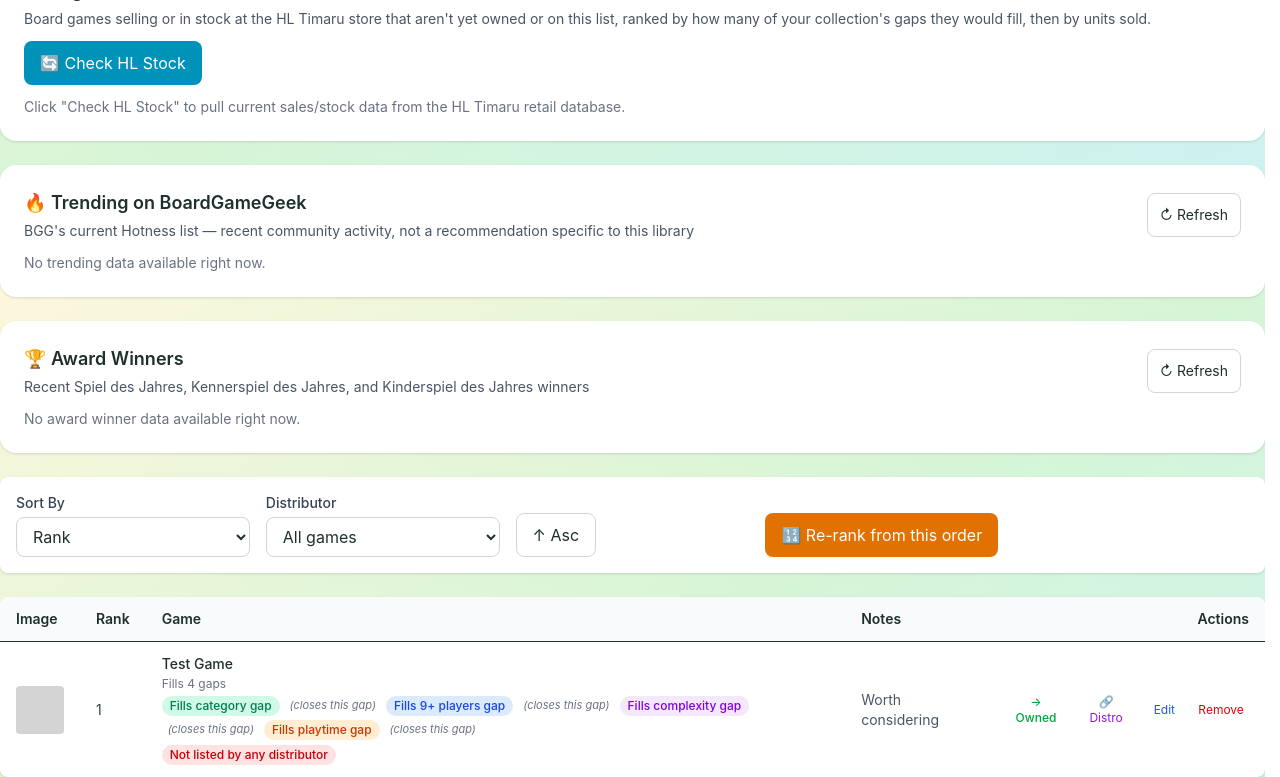
it: BuyListTab › Manual distributor links › searches the catalogue, links a code and updates the item
(page scrolled)
Click the button "🔗 Distro" at (1106, 710), box 1074,688 -> 1138,732
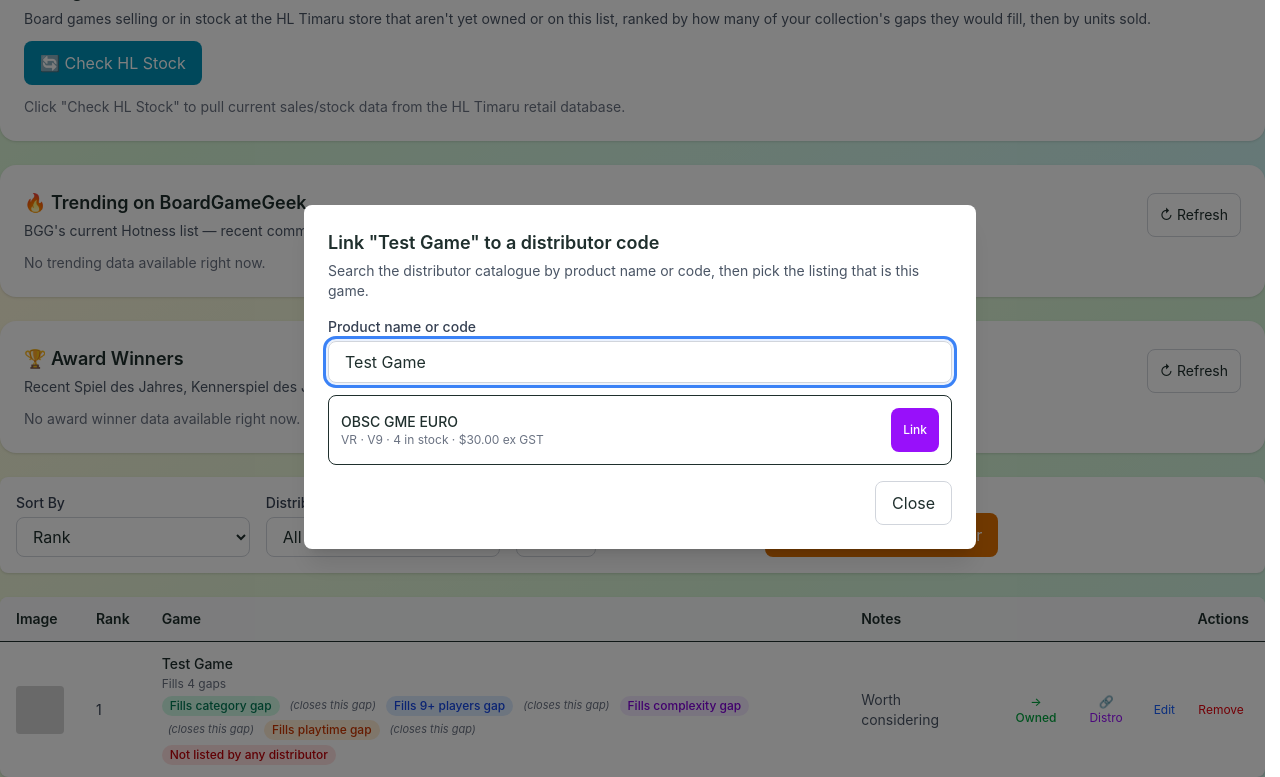
Check: the text "OBSC GME EURO" is shown, box 341,413 -> 458,430
Click the button "Link" at (915, 430), box 891,408 -> 939,452
(page scrolled)
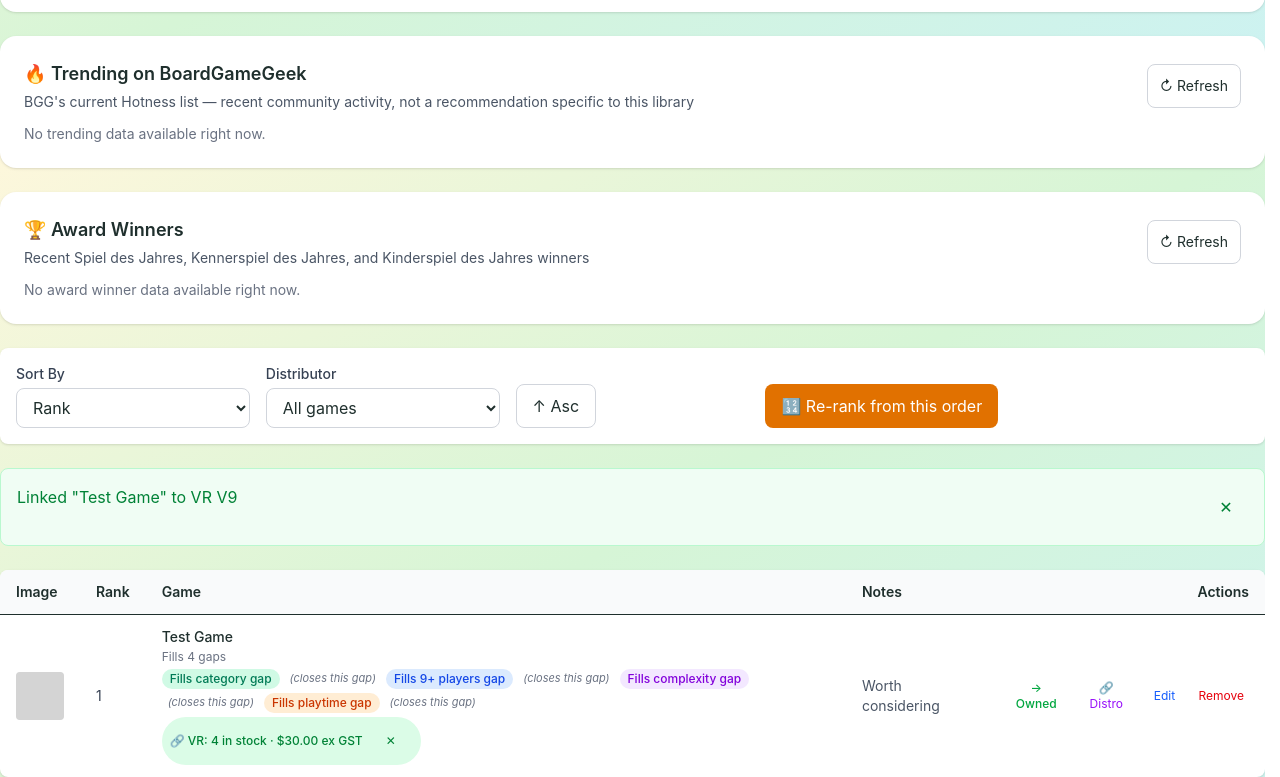
Check: the text "🔗 VR: 4 in stock · $30.00 ex GST ✕" is shown, box 162,717 -> 421,765
Check: the dialog is gone
